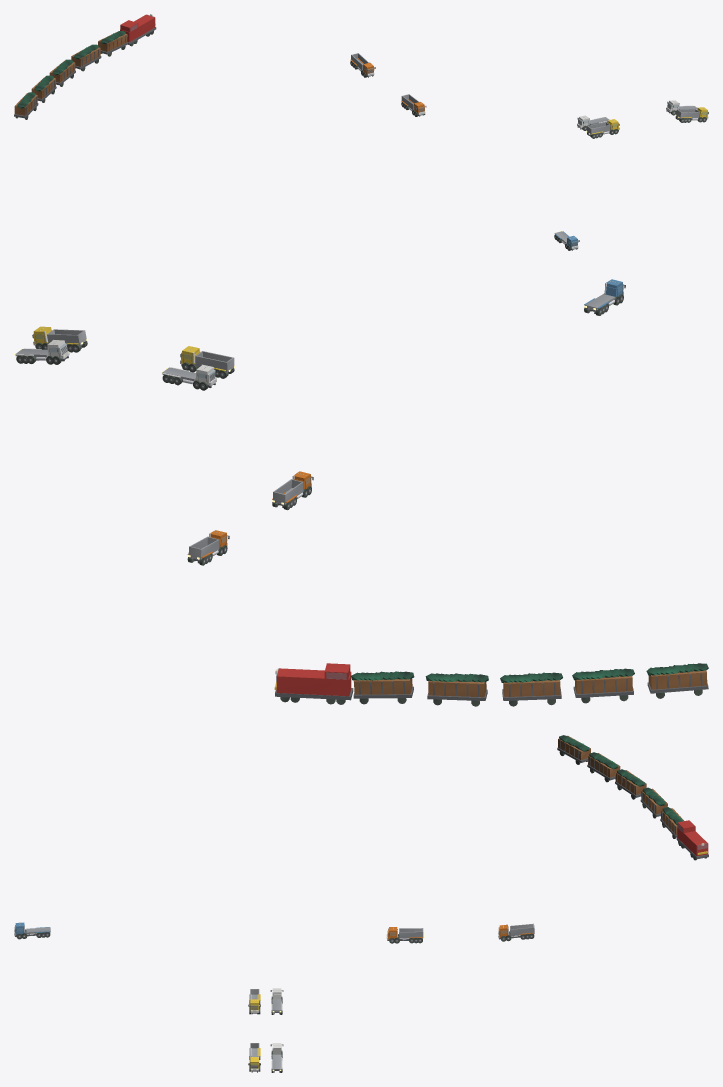
File: Vehicles_P2.fbx
The picture shows the model from 3 angles, top to bottom: view 1: azimuth 30°, elevation 25°; view 2: azimuth 150°, elevation 25°; view 3: azimuth 270°, elevation 25°; orthographic projection. The views are drawn at different scales.
Parts seen in each view (by area): view 1: train, wagon.001, wagon, wagon.004, truck_road_ore2, wagon.002, truck_road_ore3, wagon.003, truck_road_ore0; view 2: train, wagon, wagon.001, wagon.004, wagon.003, wagon.002, truck_road_ore2, truck_road_ore1, truck_road_ore3, truck_road_cargo1, truck_road_ore0, truck_road_cargo0 (+1 smaller); view 3: train, wagon.004, wagon.003, wagon.002, truck_road_ore0, truck_road_ore1.
Part boxes in pixels (x1,y1,x2,y2): train: (120,14,156,46); wagon.001: (71,44,101,71); wagon: (98,31,127,56); wagon.004: (14,92,38,119); truck_road_ore2: (586,119,619,138); wagon.002: (49,59,75,86); truck_road_ore3: (675,107,708,122); wagon.003: (31,75,56,102); truck_road_ore0: (350,53,375,77); train: (274,663,353,704); wagon: (351,671,414,704); wagon.001: (425,673,488,706); wagon.004: (646,663,708,698); wagon.003: (572,668,634,703); wagon.002: (500,672,562,706); truck_road_ore2: (180,346,235,378); truck_road_ore1: (272,471,313,510); truck_road_ore3: (32,326,88,352); truck_road_cargo1: (161,364,216,390); truck_road_ore0: (187,530,229,565); truck_road_cargo0: (14,339,69,364); train: (676,820,708,860); wagon.004: (557,735,590,764); wagon.003: (587,752,620,782); wagon.002: (615,769,646,799); truck_road_ore0: (498,923,535,941); truck_road_ore1: (386,927,424,943).
Bounding box in the file's own units: 18701 × 1446 × 18724.
